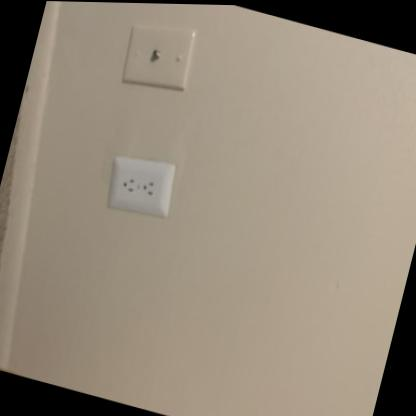OUTLET: (102, 152, 179, 221)
